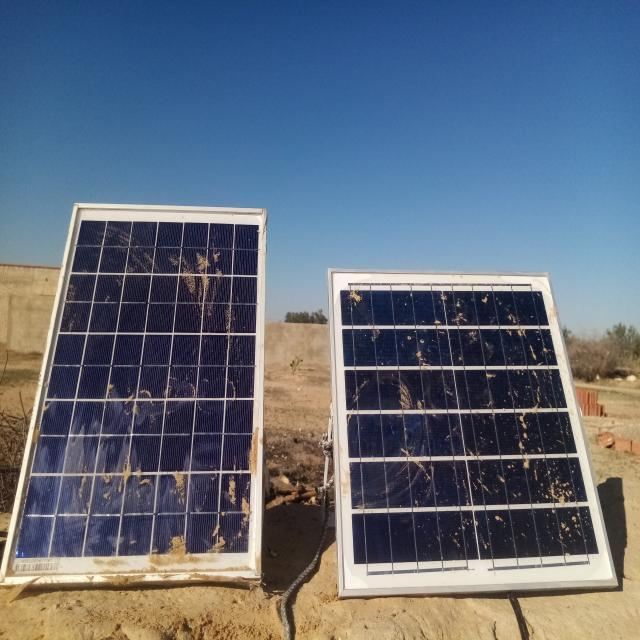faulty: (0, 211, 265, 587), (332, 269, 618, 597)
